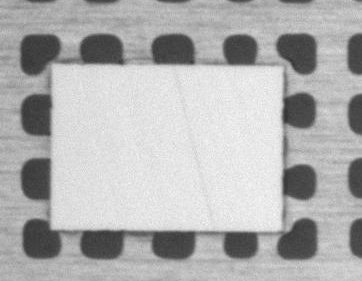DIE_CRACK: (172, 66, 218, 231)
